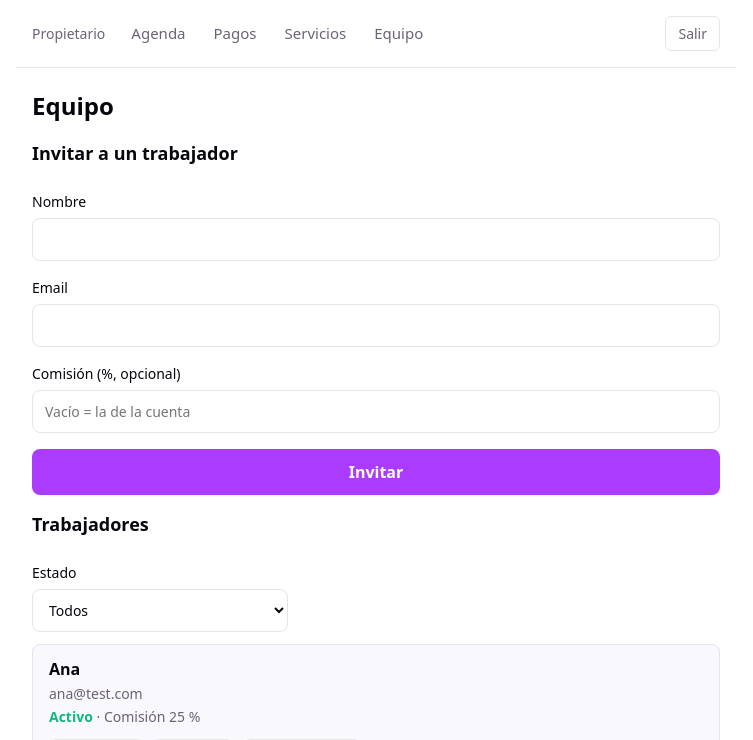
Test: RF-10, R5: la reactivación de un inactivo se comunica
Expected: the text "Ana" is shown, [49, 658, 80, 680]
Type "Caro" into the field labelled "Nombre".
click(376, 240); type("Caro")  # box [32, 218, 720, 261]
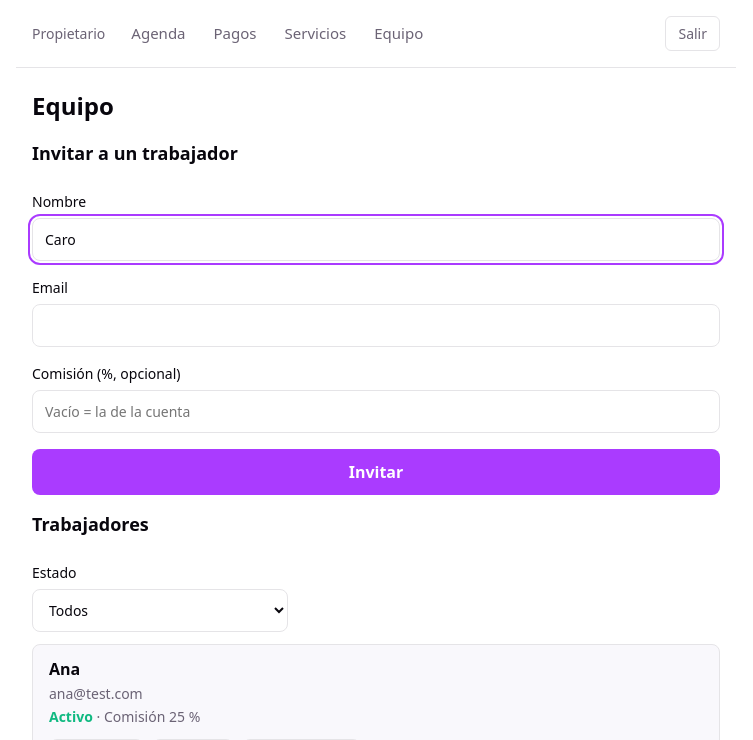
Type "caro@test.com" into the field labelled "Email".
click(376, 326); type("caro@test.com")  # box [32, 304, 720, 347]
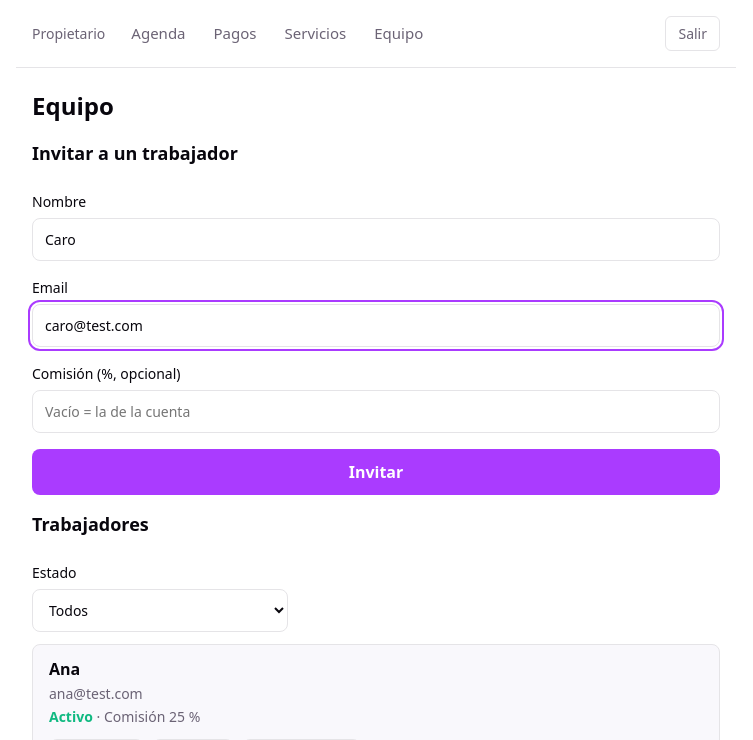
Click the button "Invitar".
click(376, 472)  # box [32, 449, 720, 495]
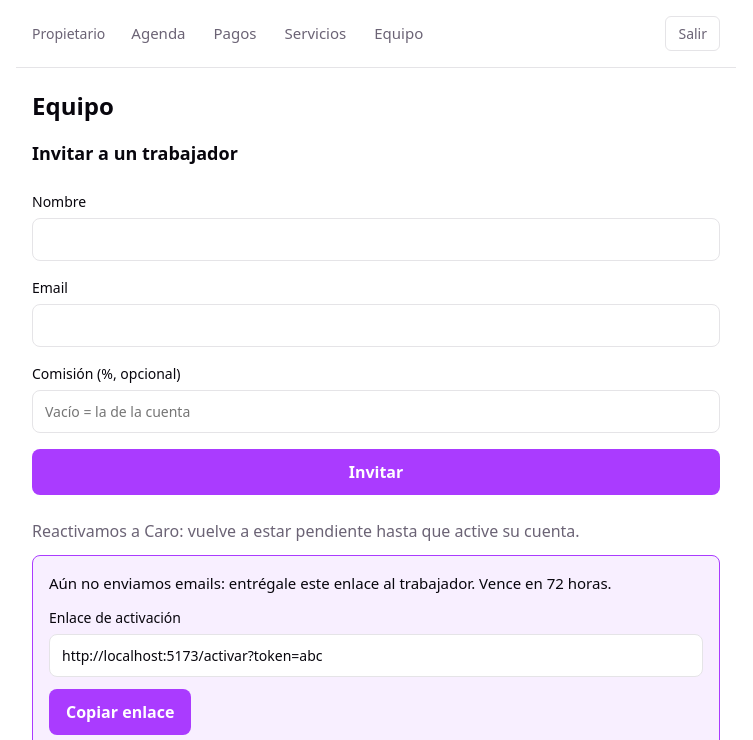
Result: the text "Reactivamos a Caro: vuelve a estar pendiente hasta que active su cuenta." is shown at [32, 520, 580, 542]
